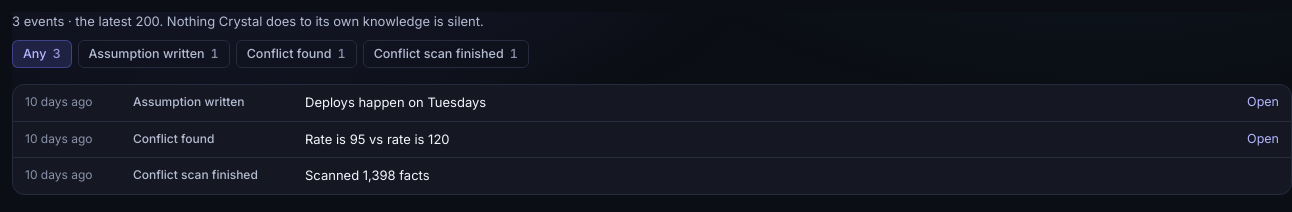
BackgroundLog › names events in plain words, links subjects, and filters by type
Expected: the text "3 events · the latest 200" is shown, [12,13,484,29]
Expected: the text "Assumption written" is shown, [133,94,244,109]
Click the button "Conflict found 1". click: (296, 54)
box: [236,40,357,68]
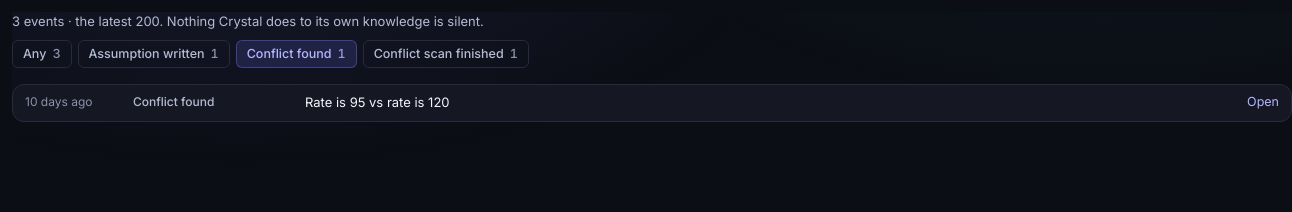
Expected: the text "Rate is 95 vs rate is 120" is shown, [305,94,450,110]
Expected: the text "Deploys happen on Tuesdays" is gone
